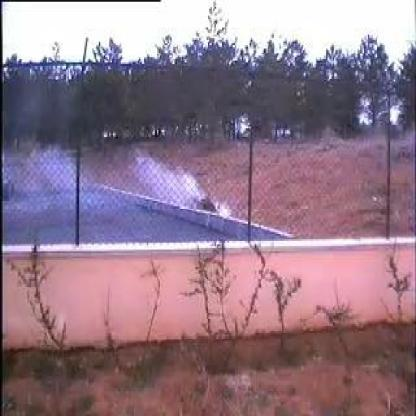-: (31, 134, 208, 240)
